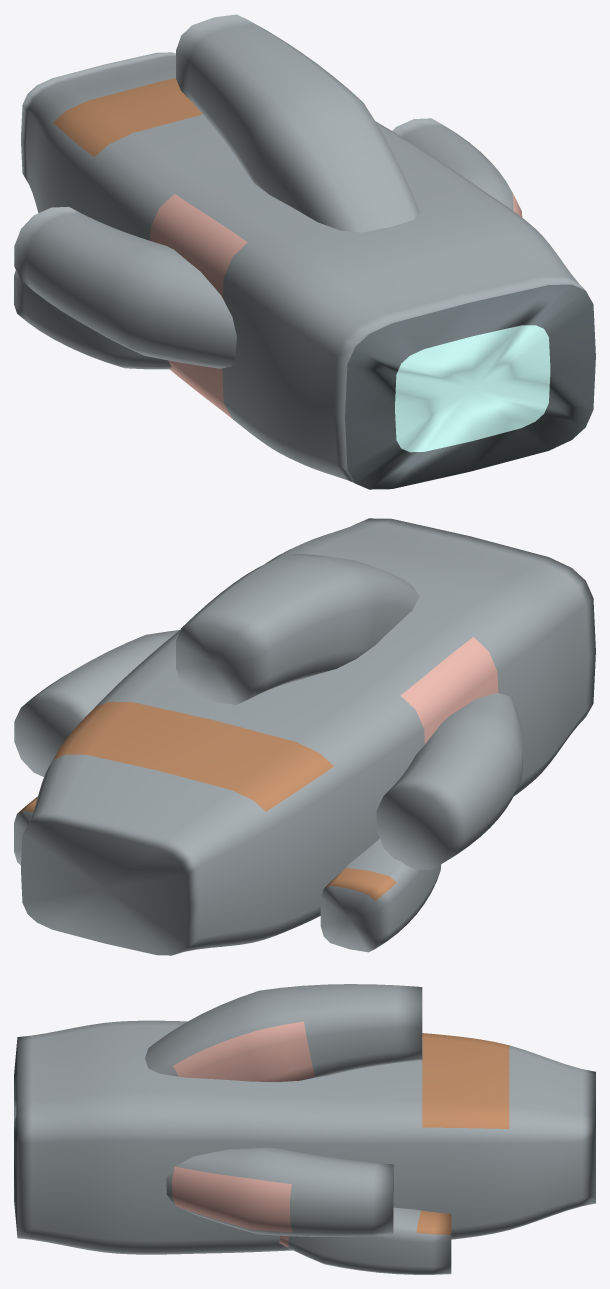
Rendered from exponent_cv.glb.
The picture shows the model from 3 angles, top to bottom: view 1: azimuth 30°, elevation 25°; view 2: azimuth 150°, elevation 25°; view 3: azimuth 270°, elevation 25°; orthographic projection. The views are drawn at different scales.
Visible parts, largest first — view 1: hull_mesh, limb_2_mesh, limb_0_mesh, limb_1_mesh, limb_0_port_mesh; view 2: hull_mesh, limb_2_mesh, limb_0_mesh, limb_1_mesh, limb_0_port_mesh, limb_1_port_mesh; view 3: hull_mesh, limb_2_mesh, limb_0_port_mesh, limb_1_port_mesh.
Boxes of the visible parts, x1,y1,x2,y2 form: hull_mesh: (21,52,595,489); limb_2_mesh: (176,14,419,232); limb_0_mesh: (14,206,236,368); limb_1_mesh: (14,270,171,369); limb_0_port_mesh: (392,118,522,217); hull_mesh: (21,518,595,955); limb_2_mesh: (176,554,419,704); limb_0_mesh: (376,692,522,869); limb_1_mesh: (320,839,441,952); limb_0_port_mesh: (14,630,179,776); limb_1_port_mesh: (14,796,37,865); hull_mesh: (14,1020,595,1254); limb_2_mesh: (145,984,422,1082); limb_0_port_mesh: (166,1147,393,1236); limb_1_port_mesh: (279,1207,451,1274).
Size of the model in its own units: 159 by 98.95 by 231.
